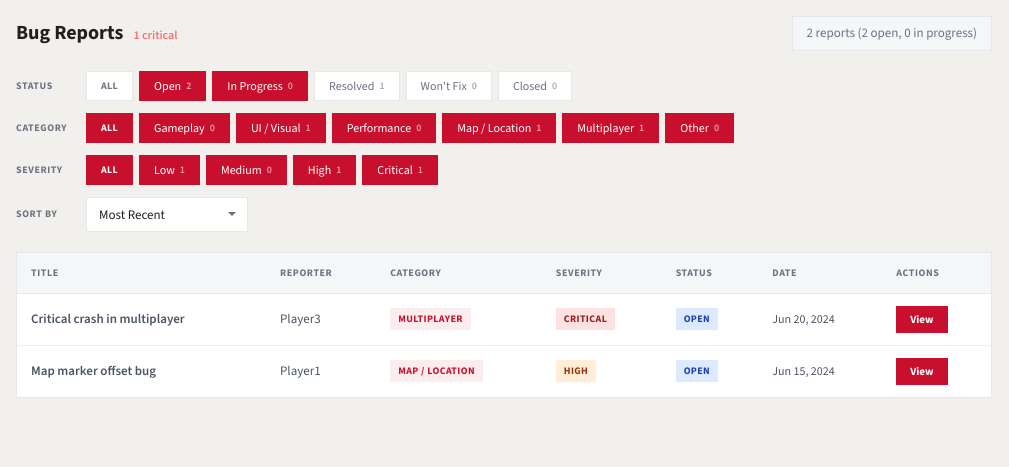
Test case: BugReportManagement › filtering › should use "All" pill to toggle all values for a filter group
Note: Click "All" for Status — selects all (currently only open+in-progress selected)
Click the 1st button with class "toggle-all": click(110, 86) [86, 71, 133, 101]
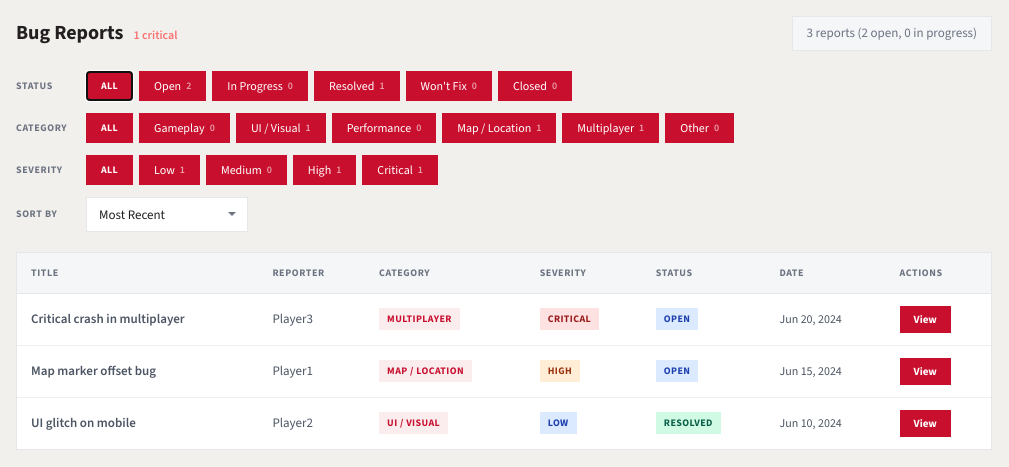
Expected: the text "Map marker offset bug" is shown, [17, 345, 258, 397]
Expected: the text "UI glitch on mobile" is shown, [17, 397, 258, 449]
